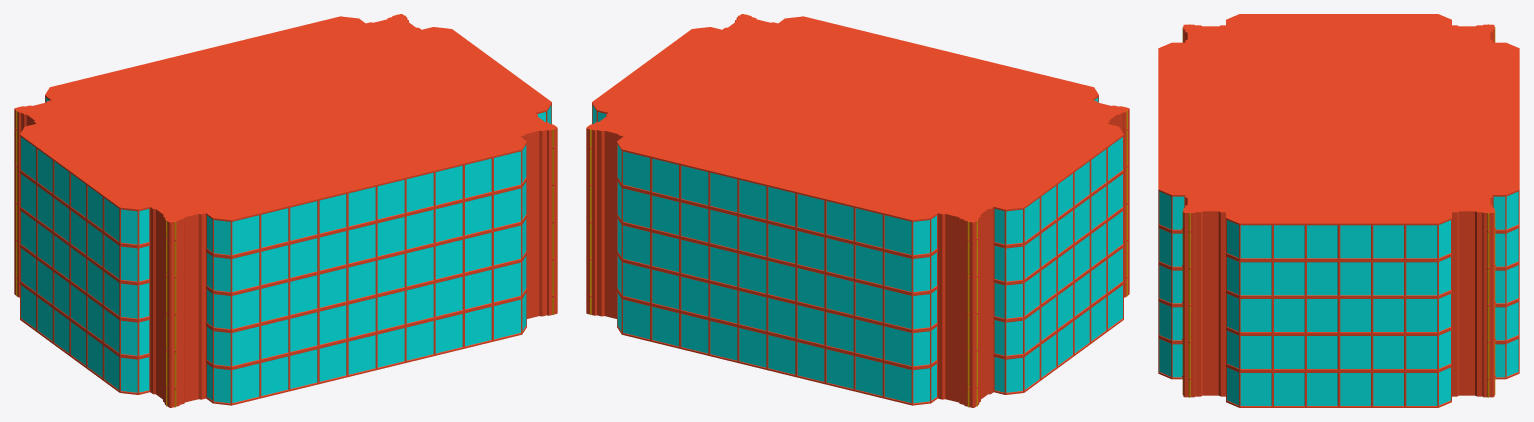
Rendered from SM_Skyscraper_A_Floor_Small_City.fbx.
The picture shows the model from 3 angles, left to right: view 1: azimuth 30°, elevation 25°; view 2: azimuth 150°, elevation 25°; view 3: azimuth 270°, elevation 25°; orthographic projection.
Parts seen in each view (by area): view 1: SM_Skyscraper_A_Floor_Small_City; view 2: SM_Skyscraper_A_Floor_Small_City; view 3: SM_Skyscraper_A_Floor_Small_City.
Boxes of the visible parts, <box> form: SM_Skyscraper_A_Floor_Small_City: <box>14,14,557,407</box>; SM_Skyscraper_A_Floor_Small_City: <box>586,14,1129,407</box>; SM_Skyscraper_A_Floor_Small_City: <box>1158,14,1519,407</box>.
Bounding box in the file's own units: 36.62 × 15 × 26.67.
